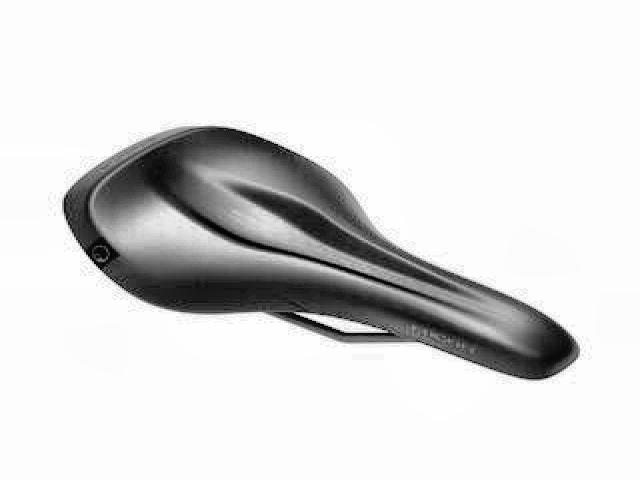saddle: (54, 122, 582, 384)
